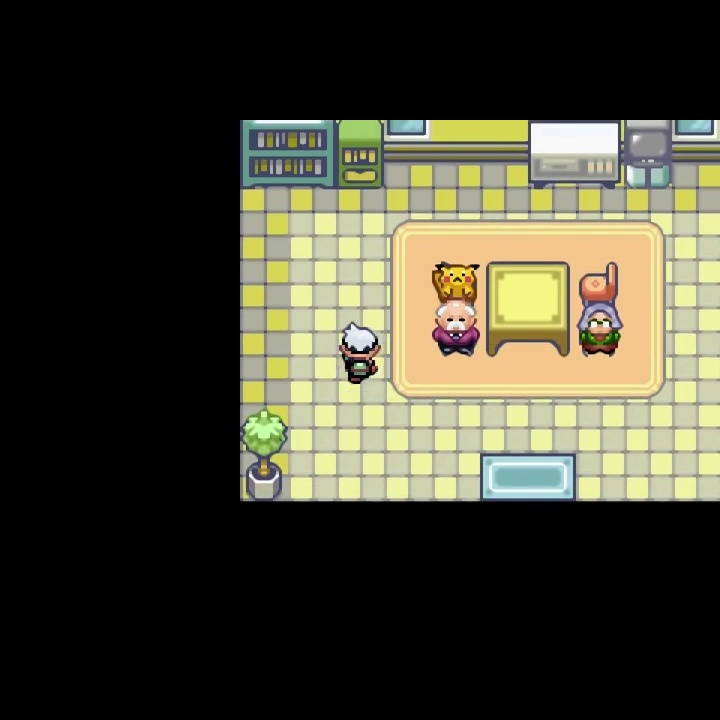exit: (478, 451, 578, 557)
npc: (430, 298, 483, 361), (337, 319, 383, 386), (578, 301, 624, 358)
